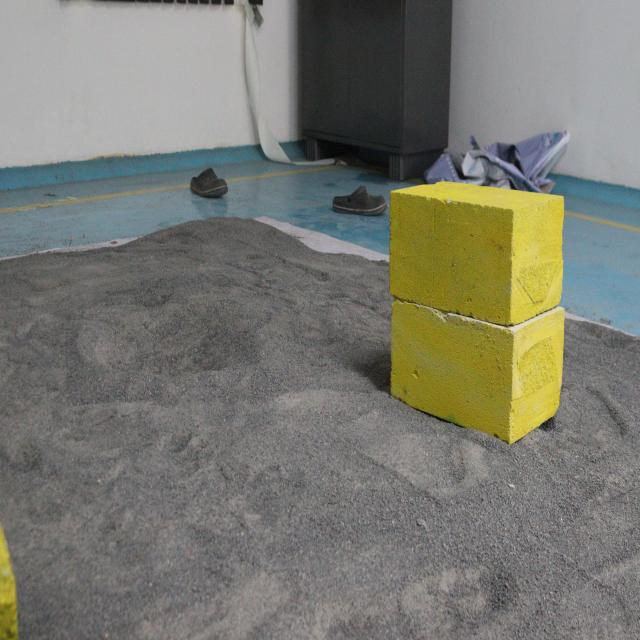box: (386, 170, 566, 441)
crater: (69, 280, 264, 389)
